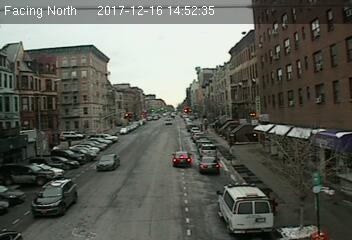car: (31, 179, 79, 216), (96, 154, 120, 171), (198, 155, 220, 172), (172, 150, 192, 168)
police: (214, 181, 278, 233)
